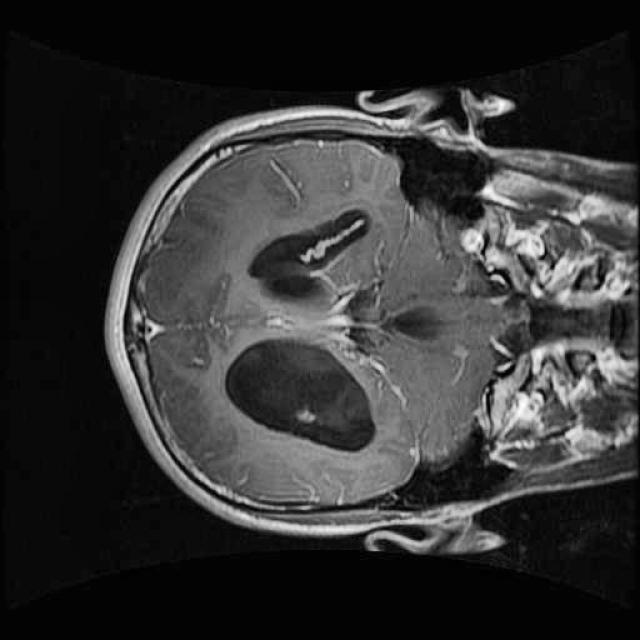Tumor: (204, 321, 388, 468)
